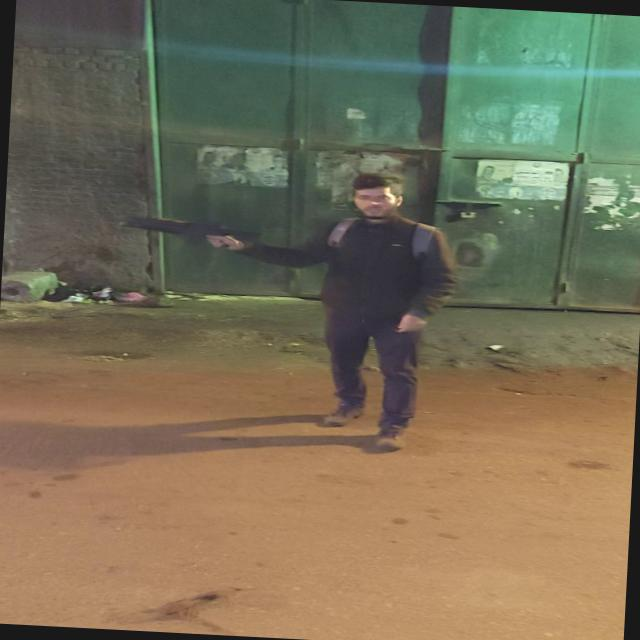long weapon: (90, 202, 280, 266)
